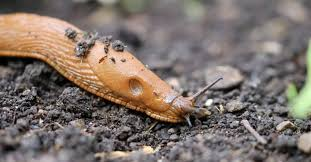slug: (1, 10, 213, 122)
